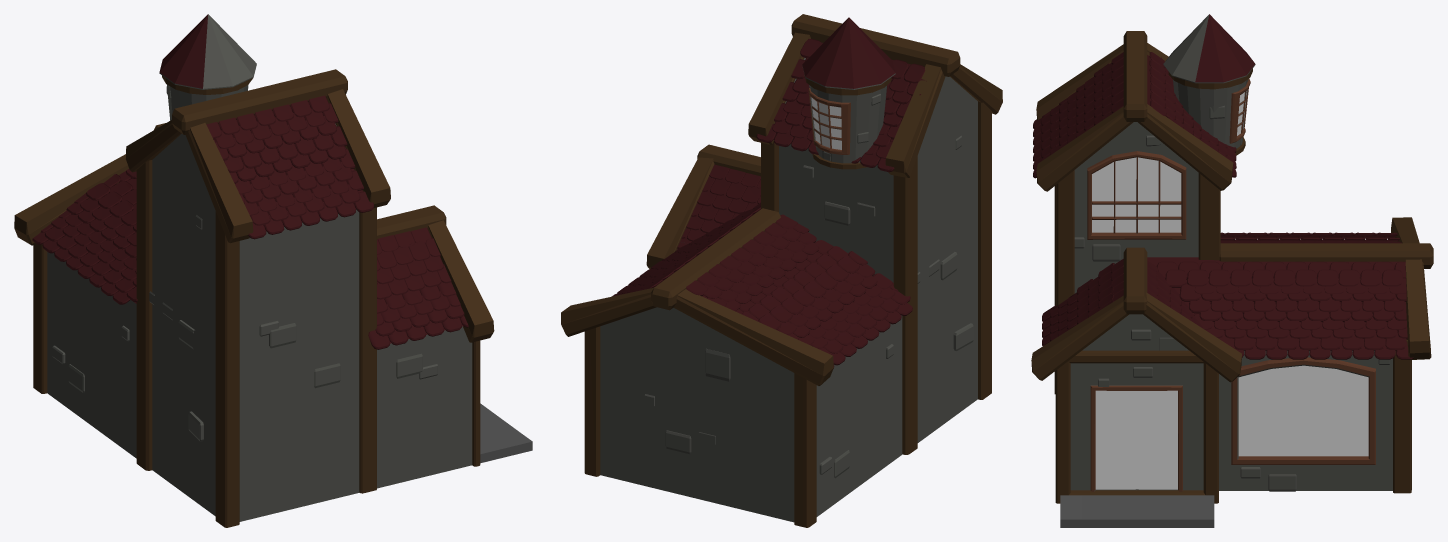
File: SpookyHouse2.fbx
3 views of the same model, side by side, from view 1: azimuth 30°, elevation 25°; view 2: azimuth 150°, elevation 25°; view 3: azimuth 270°, elevation 25° (orthographic). The views are drawn at different scales.
Parts seen in each view (by area): view 1: Cube, Cube.025, Cube.023, Cube.026, Cube.017, Cube.037, Cube.024, Cube.021, Cube.020, Cube.019, Cube.018, Cube.022 (+14 smaller); view 2: Cube, Cube.042, Cube.048, Cube.043, Cube.047, Cube.046, Cube.041, Cube.037, Cube.045, Cube.039, Cube.028, Cube.040 (+14 smaller); view 3: Cube, Cube.057, Cube.054, Cube.058, Cube.050, Cube.055, Cube.053, Cube.051, Cube.052, Cube.056, Cube.049, Cube.035 (+8 smaller).
Boxes of the visible parts, box(x1,y1,x2,y2) form: Cube: box(14, 14, 532, 527); Cube.025: box(206, 95, 329, 139); Cube.023: box(224, 126, 347, 172); Cube.026: box(214, 103, 338, 149); Cube.017: box(248, 191, 373, 239); Cube.037: box(40, 223, 137, 302); Cube.024: box(215, 116, 336, 160); Cube.021: box(235, 148, 355, 194); Cube.020: box(240, 161, 352, 203); Cube.019: box(244, 170, 363, 216); Cube.018: box(250, 184, 360, 225); Cube.022: box(229, 139, 346, 183); Cube: box(561, 14, 1002, 527); Cube.042: box(758, 251, 867, 329); Cube.048: box(686, 214, 797, 296); Cube.043: box(741, 246, 849, 321); Cube.047: box(703, 223, 809, 298); Cube.046: box(706, 232, 816, 306); Cube.041: box(777, 264, 875, 334); Cube.037: box(819, 290, 910, 354); Cube.045: box(721, 241, 819, 311); Cube.039: box(798, 273, 892, 345); Cube.028: box(756, 124, 894, 172); Cube.040: box(780, 274, 877, 339); Cube: box(1031, 14, 1433, 527); Cube.057: box(1165, 269, 1402, 287); Cube.054: box(1189, 295, 1404, 313); Cube.058: box(1156, 261, 1405, 279); Cube.050: box(1219, 332, 1406, 350); Cube.055: box(1179, 283, 1406, 301); Cube.053: box(1199, 303, 1406, 321); Cube.051: box(1205, 321, 1407, 339); Cube.052: box(1194, 313, 1406, 330); Cube.056: box(1194, 278, 1406, 295); Cube.049: box(1233, 342, 1413, 359); Cube.035: box(1149, 52, 1166, 116).
Size of the model in its own units: 908 by 1155 by 1041.
